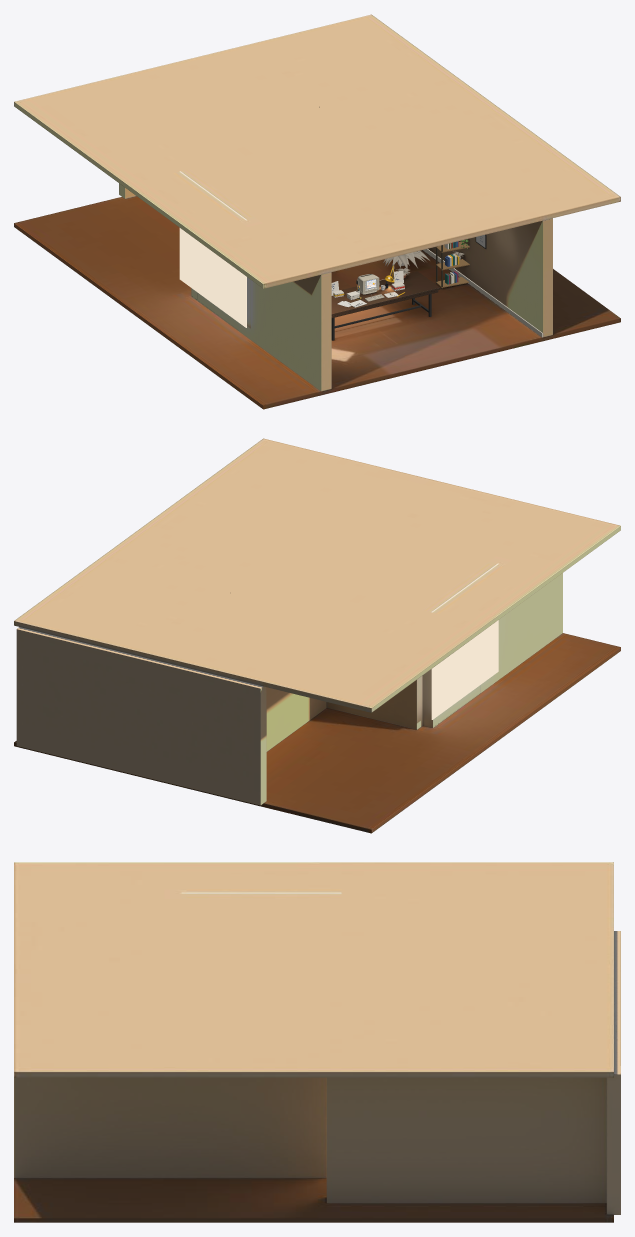
File: clover-studio-packed.glb
The picture shows the model from 3 angles, top to bottom: view 1: azimuth 30°, elevation 25°; view 2: azimuth 150°, elevation 25°; view 3: azimuth 270°, elevation 25°; orthographic projection. The views are drawn at different scales.
Visible parts, largest first — view 1: Ceiling, Floor, Left_Front, RightWall, Win_Sky, Desk_Top, Skirt_Right; view 2: Ceiling, Back_EndWall, Floor, Left_Front, Win_Sky, Back_LeftWall, BackWall_0, Left_Back; view 3: Ceiling, Back_RightWall, RightWall, Floor, Back_EndWall.
Boxes of the visible parts, <box> form: Ceiling: <box>14,14,620,288</box>; Floor: <box>14,196,620,409</box>; Left_Front: <box>239,272,331,391</box>; RightWall: <box>428,218,552,337</box>; Win_Sky: <box>179,171,246,327</box>; Desk_Top: <box>331,271,440,315</box>; Skirt_Right: <box>423,249,542,337</box>; Ceiling: <box>14,438,620,712</box>; Back_EndWall: <box>16,627,266,805</box>; Floor: <box>14,633,620,833</box>; Left_Front: <box>480,573,562,692</box>; Win_Sky: <box>431,563,498,719</box>; Back_LeftWall: <box>266,687,326,751</box>; BackWall_0: <box>326,676,422,729</box>; Left_Back: <box>422,669,439,727</box>; Ceiling: <box>14,862,613,1077</box>; Back_RightWall: <box>326,1077,606,1203</box>; RightWall: <box>14,1077,326,1178</box>; Floor: <box>14,1178,613,1222</box>; Back_EndWall: <box>606,931,620,1214</box>.
Size of the model in its own units: 9.77 by 3.29 by 11.94.
296 materials, 15 textured.
